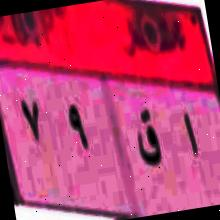7: (18, 86, 50, 154)
9: (62, 93, 94, 165)
alif: (176, 98, 204, 169)
qaaf: (131, 105, 165, 180)
